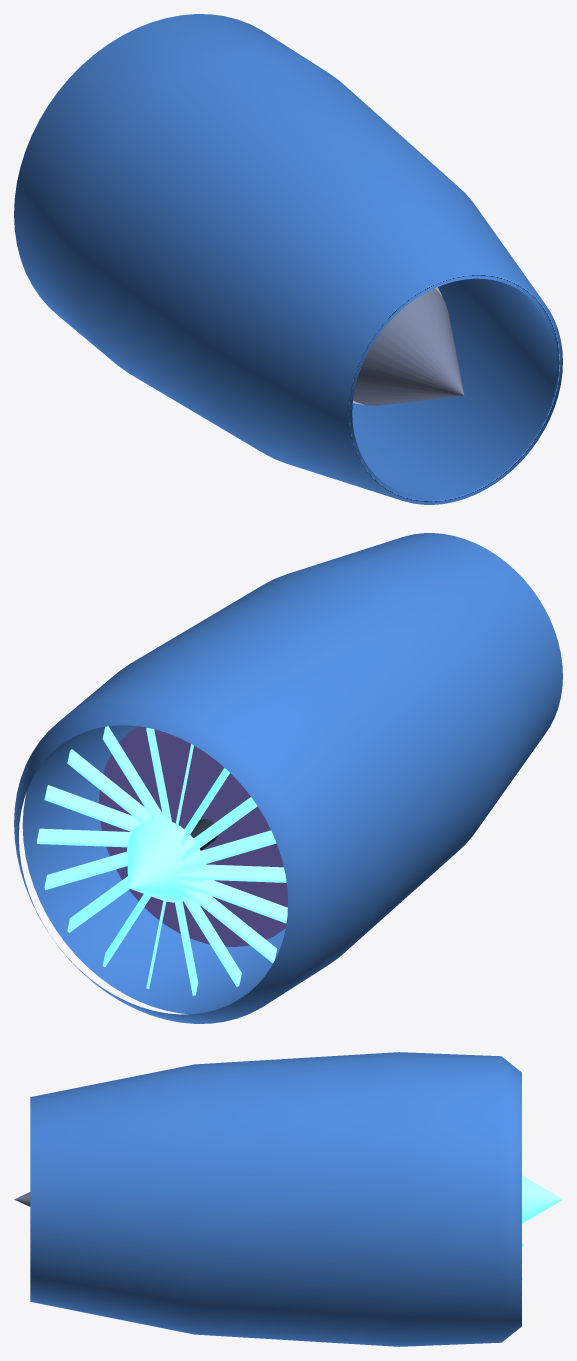
File: turbina-harle.glb
The picture shows the model from 3 angles, top to bottom: view 1: azimuth 30°, elevation 25°; view 2: azimuth 150°, elevation 25°; view 3: azimuth 270°, elevation 25°; orthographic projection. The views are drawn at different scales.
Parts seen in each view (by area): view 1: Carenagem, Cone de exaustão; view 2: Carenagem, Ventoinha, Compressor; view 3: Carenagem, Ventoinha.
Boxes of the visible parts, box(x1,y1,x2,y2) form: Carenagem: box(14, 14, 562, 504); Cone de exaustão: box(353, 288, 464, 405); Carenagem: box(14, 533, 562, 1023); Ventoinha: box(37, 726, 287, 995); Compressor: box(99, 726, 287, 946); Carenagem: box(30, 1052, 521, 1346); Ventoinha: box(522, 1175, 562, 1280).
Bounding box in the file's own units: 1.44 × 1.44 × 2.68.
